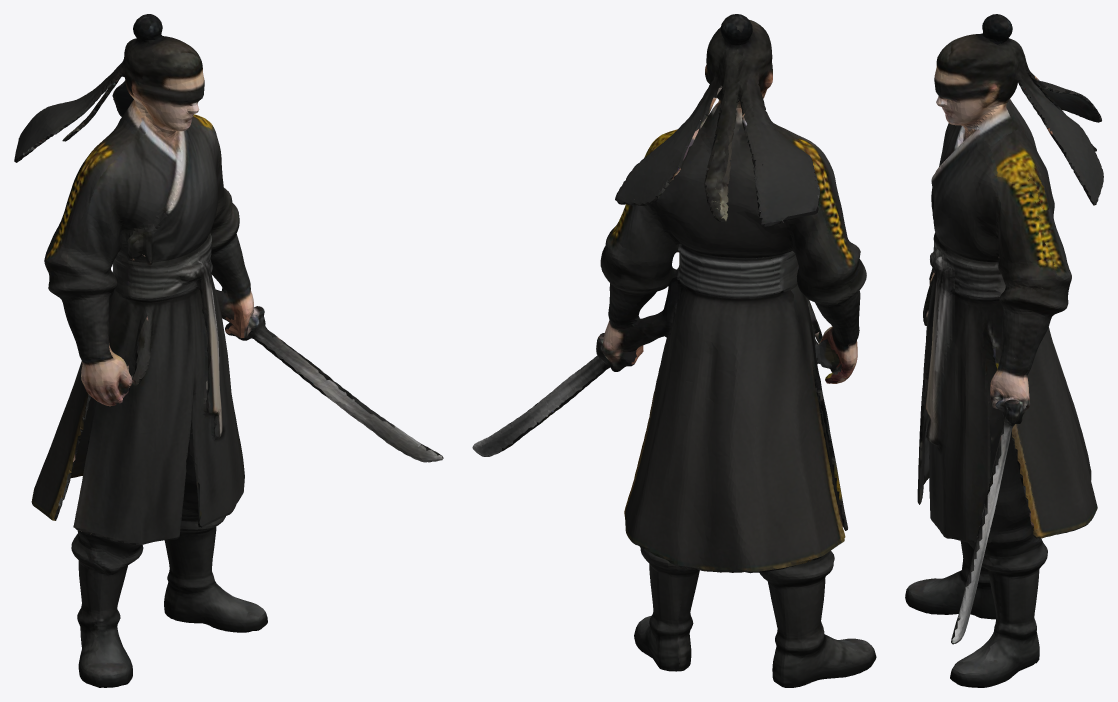
The model's file is hero_raw.glb.
The picture shows the model from 3 angles, left to right: view 1: azimuth 30°, elevation 25°; view 2: azimuth 150°, elevation 25°; view 3: azimuth 270°, elevation 25°; orthographic projection. The views are drawn at different scales.
Parts seen in each view (by area): view 1: tmpkc25abzq.ply; view 2: tmpkc25abzq.ply; view 3: tmpkc25abzq.ply.
Boxes of the visible parts, box(x1,y1,x2,y2) form: tmpkc25abzq.ply: box(14, 14, 443, 687); tmpkc25abzq.ply: box(472, 14, 876, 687); tmpkc25abzq.ply: box(905, 14, 1103, 687).
Bounding box in the file's own units: 1.28 × 1.99 × 0.5751.
Materials: 1 (1 with a texture image).
